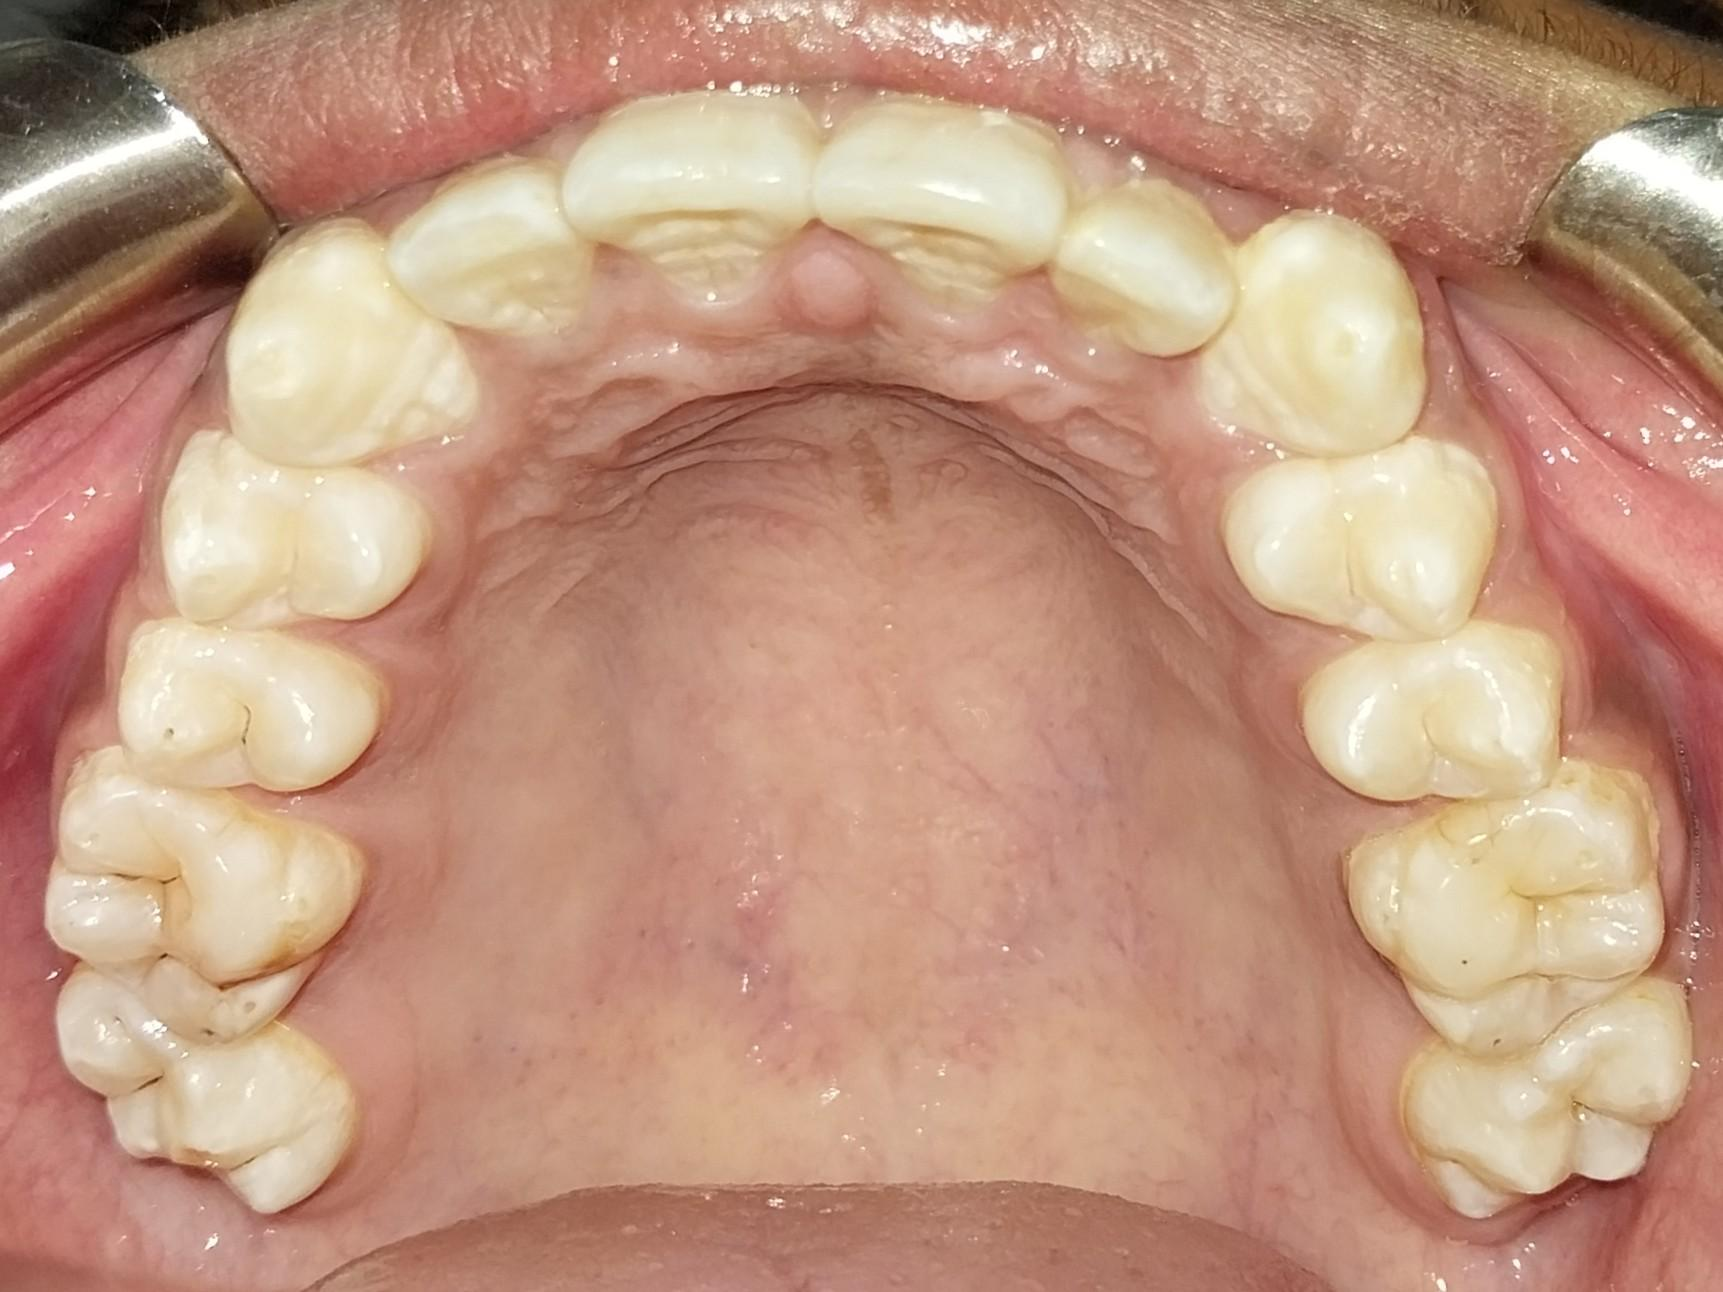D: (45, 768, 360, 1043), (48, 971, 349, 1215), (121, 626, 382, 794)
